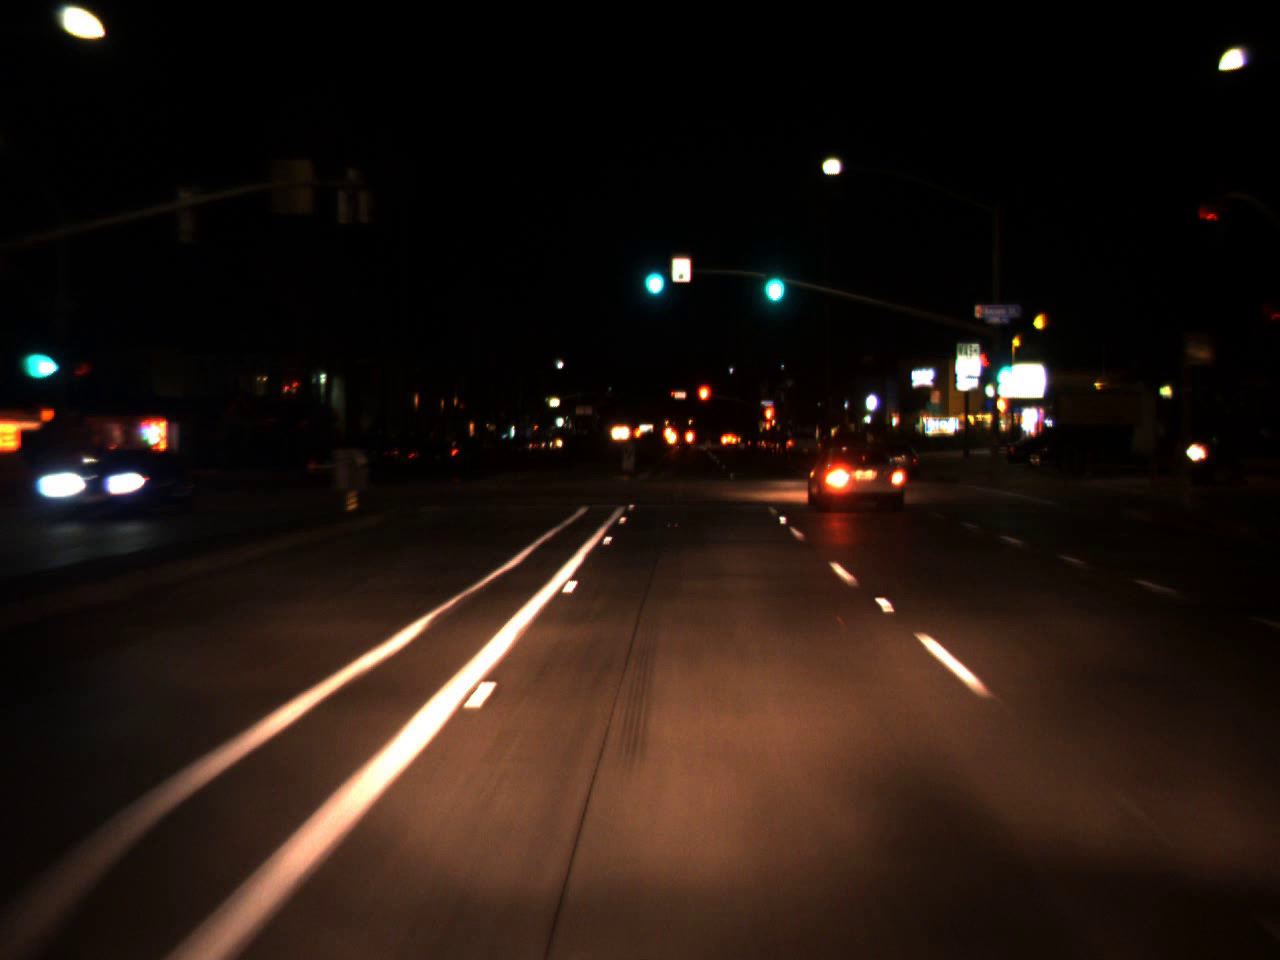go: (16, 322, 59, 388), (757, 247, 789, 310), (637, 245, 667, 302), (989, 349, 1016, 388)
stop: (696, 382, 712, 419), (762, 402, 775, 439)
